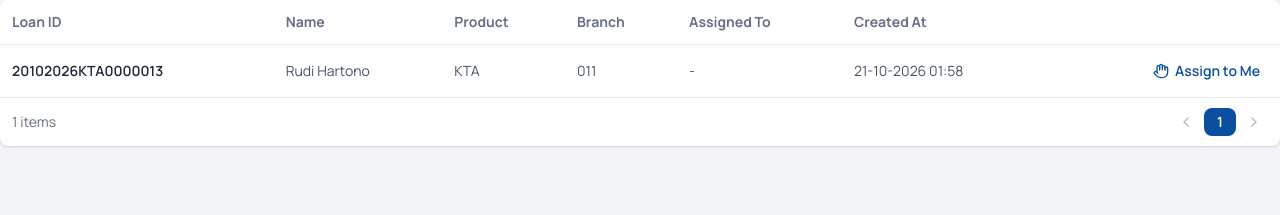
Test: TaskQueue › AC-58.04 shows who took the task first and refreshes the row
This screenshot has width=1280, height=215.
Click the button "Assign to Me": (1206, 71) [1145,57,1268,85]
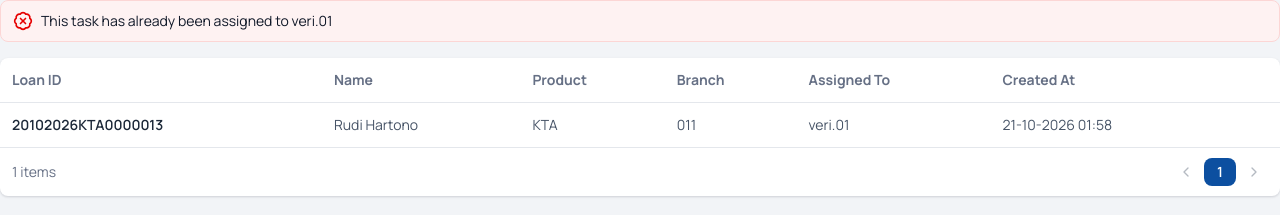
Expected: the message reads "This task has already been assigned to veri.01", [41,11,332,30]
Expected: the row "20102026KTA0000013" shows "veri.01", [808,115,849,134]
